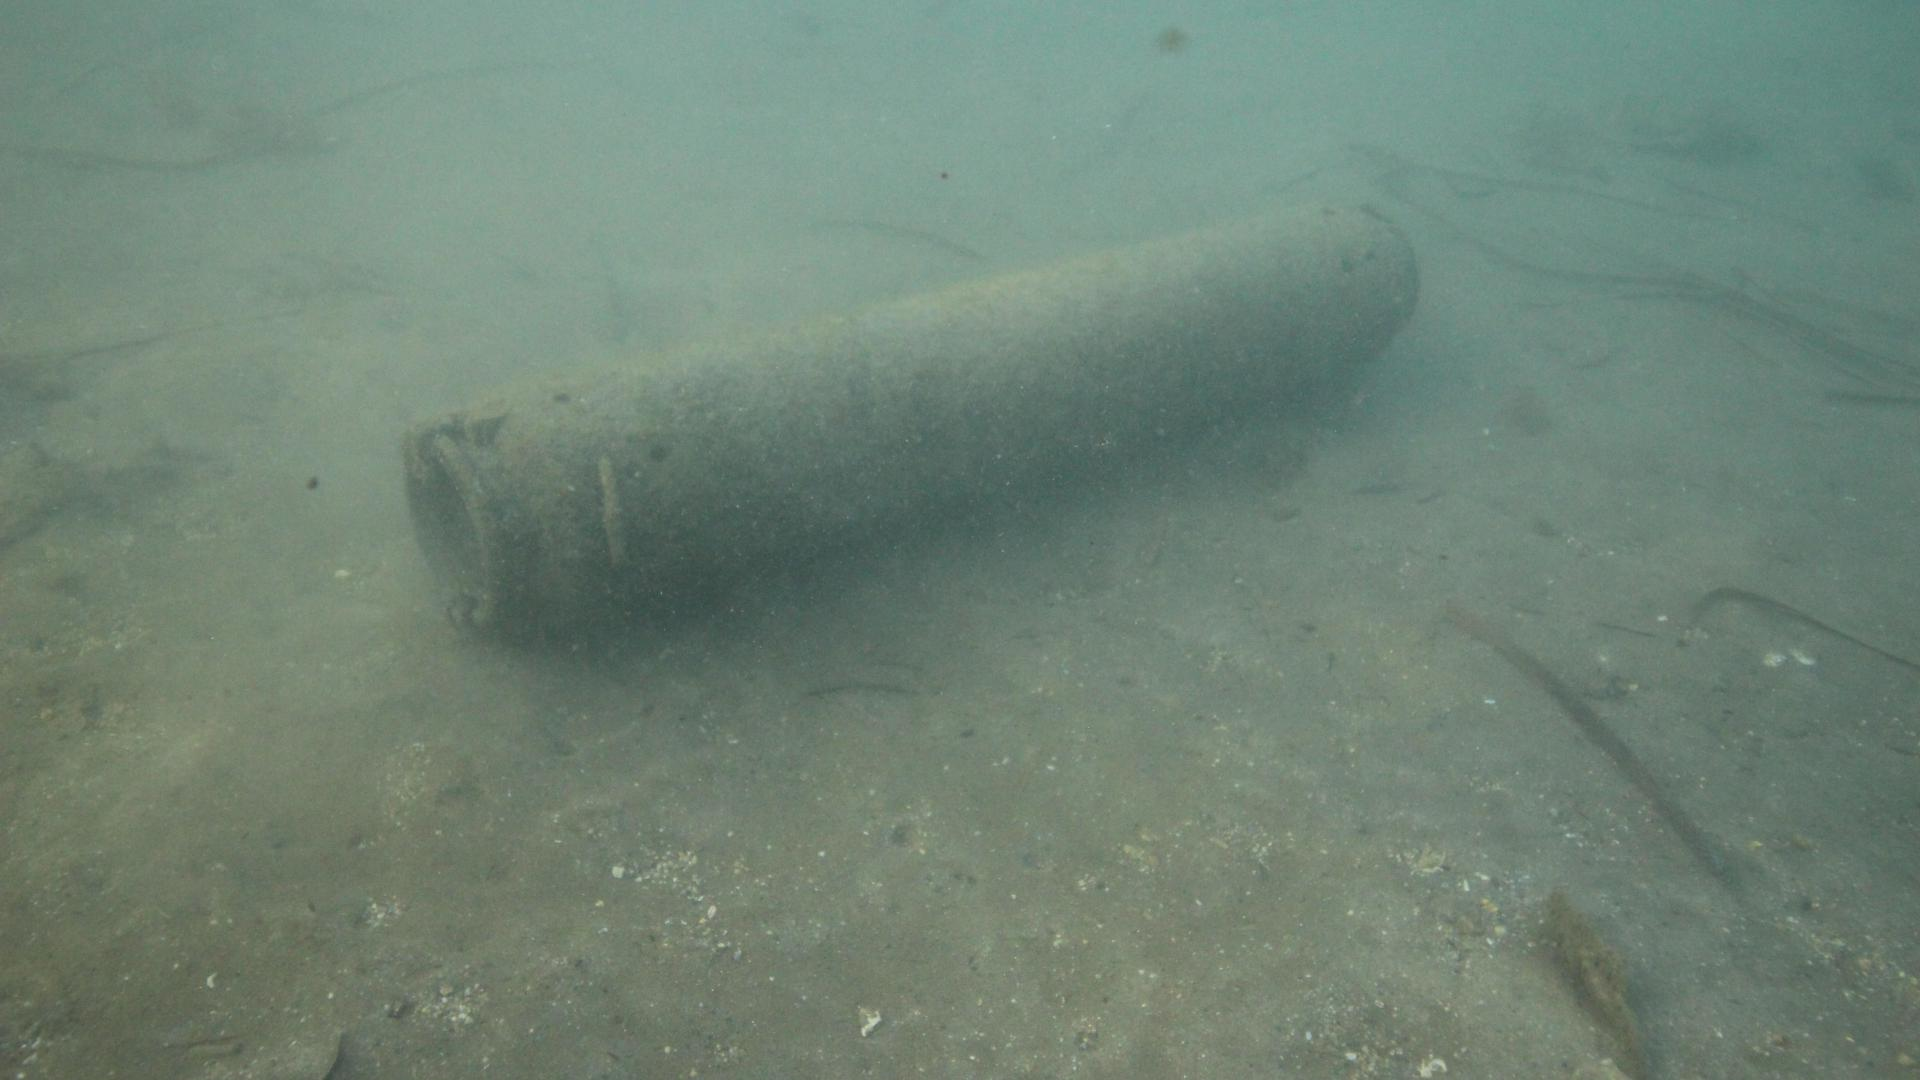eel fish trap: (400, 195, 1419, 653)
